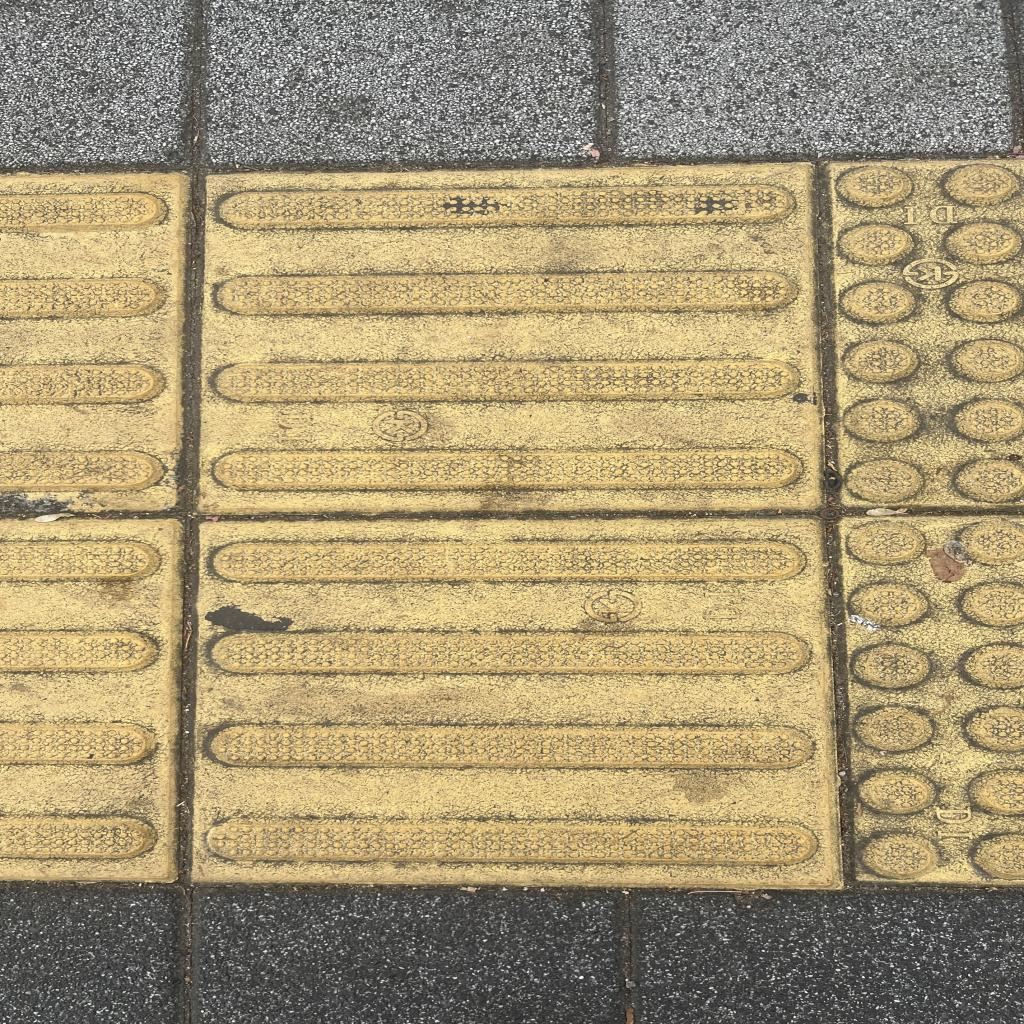Straight block normal: (197, 518, 841, 884), (210, 173, 817, 508)
